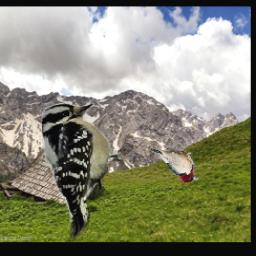Woodpecker: (39, 100, 134, 239), (150, 149, 201, 183)
